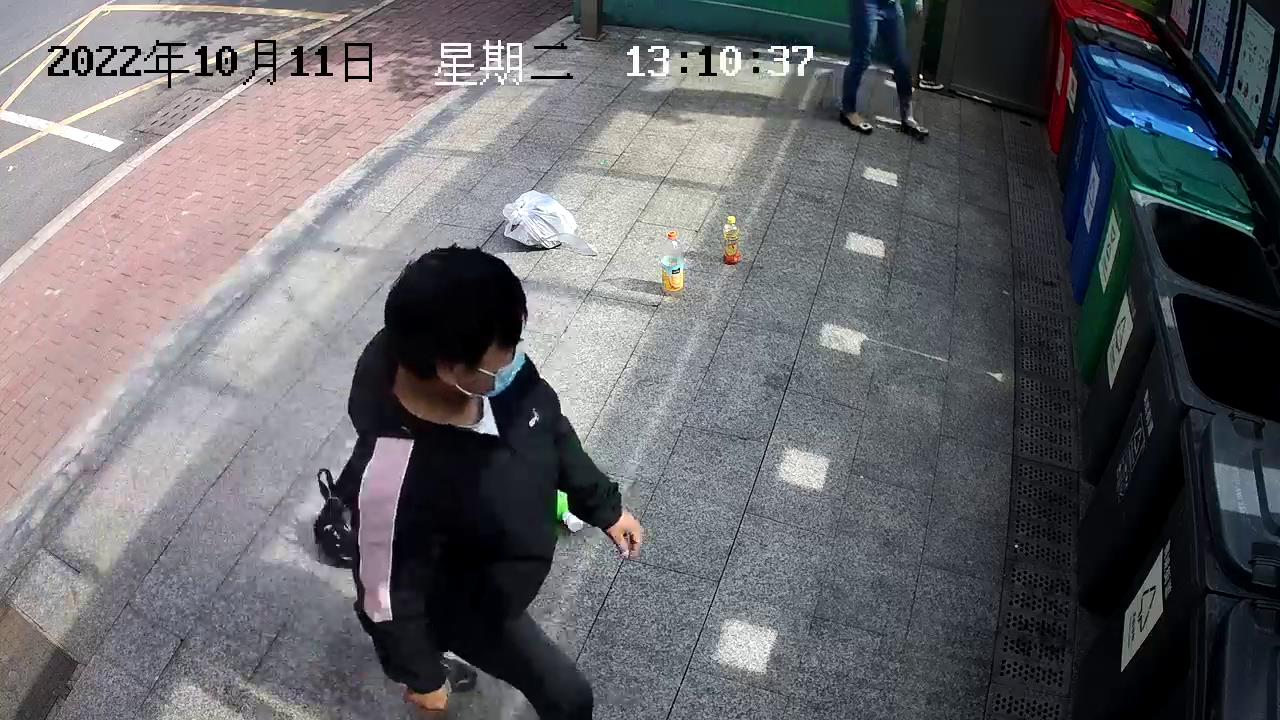garbage-bag: (500, 187, 579, 248)
person: (311, 241, 645, 720)
suliaozhipin: (657, 228, 687, 296), (721, 214, 742, 264)
